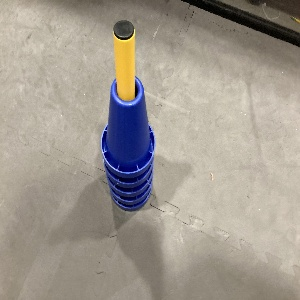Blue_5: (100, 76, 155, 208)
